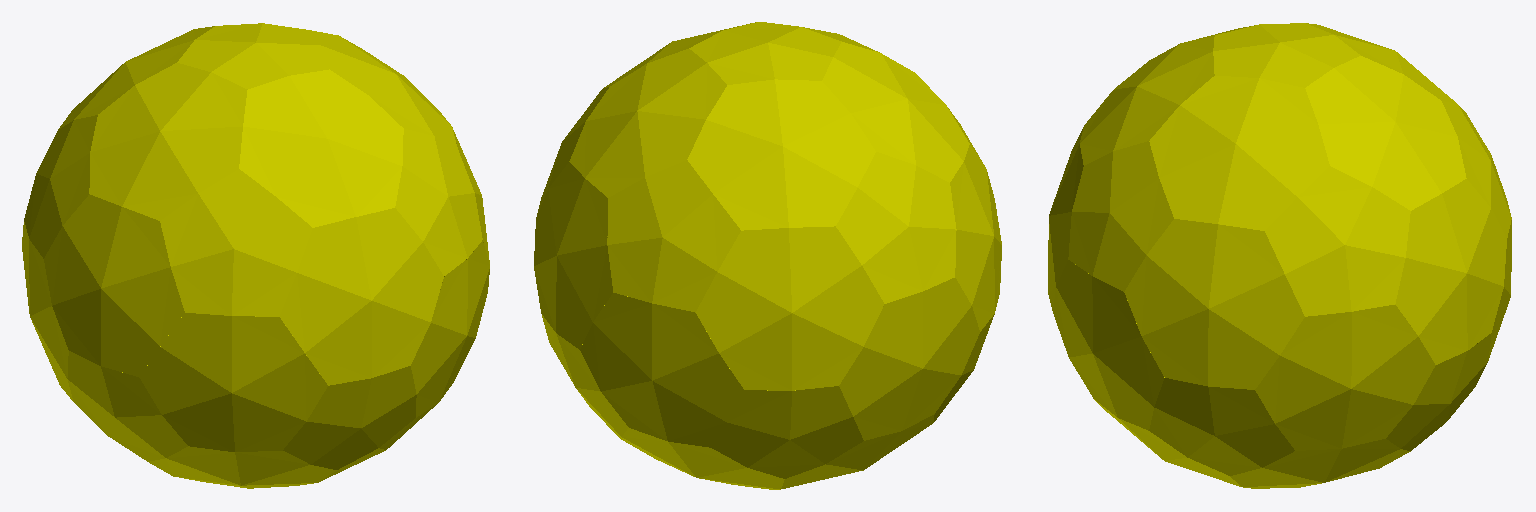
File: yellow_ball.obj
The picture shows the model from 3 angles: view 1: azimuth 30°, elevation 25°; view 2: azimuth 150°, elevation 25°; view 3: azimuth 270°, elevation 25°; orthographic projection.
Visible parts, largest first — view 1: body; view 2: body; view 3: body.
Boxes of the visible parts, <box> form: body: <box>22,23,489,488</box>; body: <box>534,22,1001,489</box>; body: <box>1048,23,1511,488</box>.
Size of the model in its own units: 4.8 by 4.8 by 4.72.